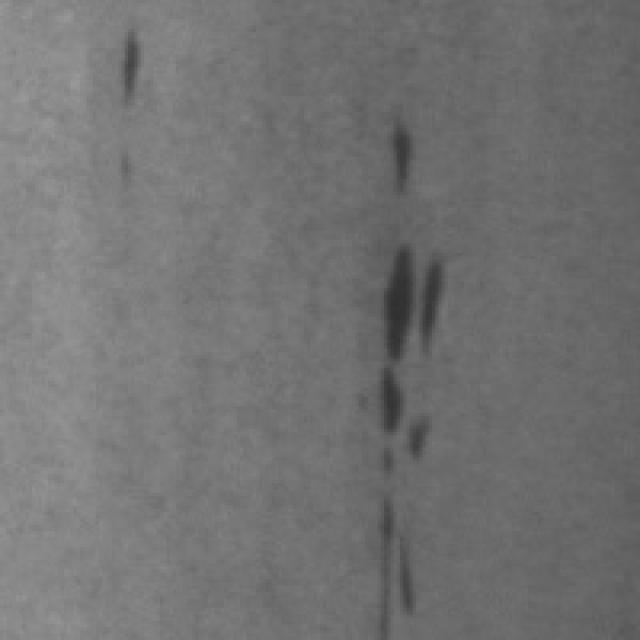inclusion: (368, 365, 429, 630), (365, 227, 445, 368), (102, 13, 144, 112), (381, 105, 413, 188)
